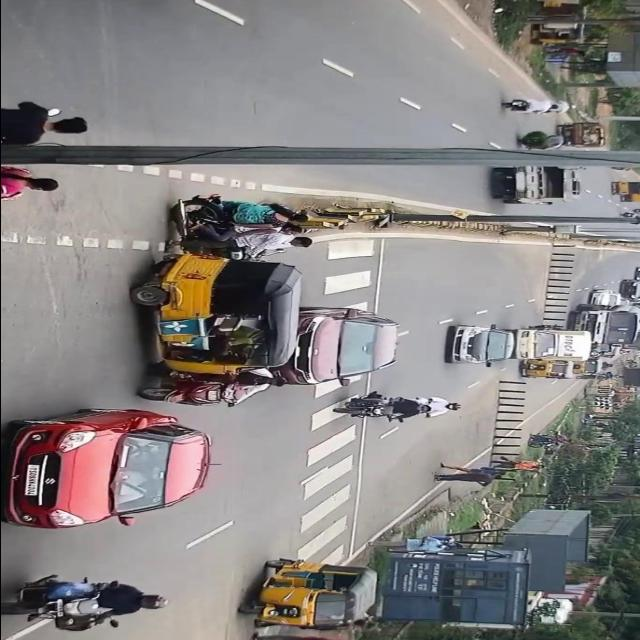accident: (126, 249, 305, 408)
non_accident: (437, 290, 639, 382), (606, 177, 640, 206), (620, 263, 640, 301)
